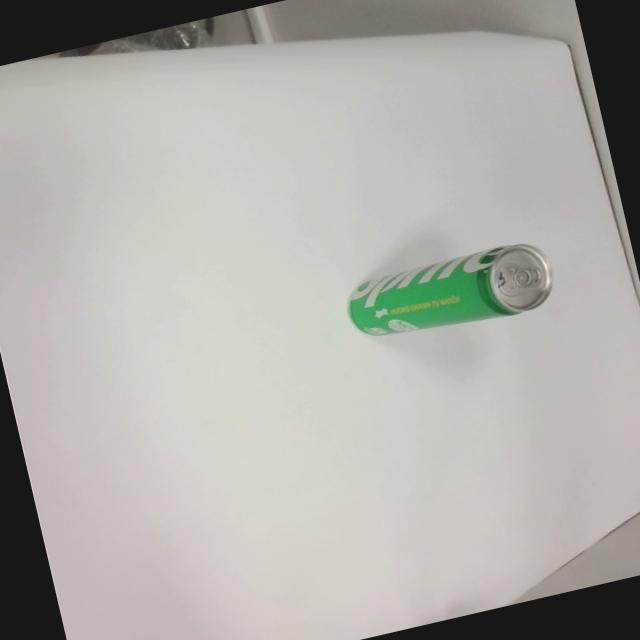debris: (339, 235, 560, 352)
